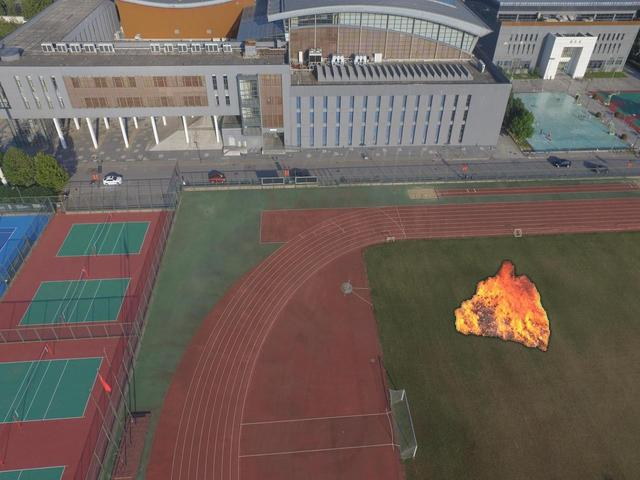fire: (454, 260, 550, 350)
